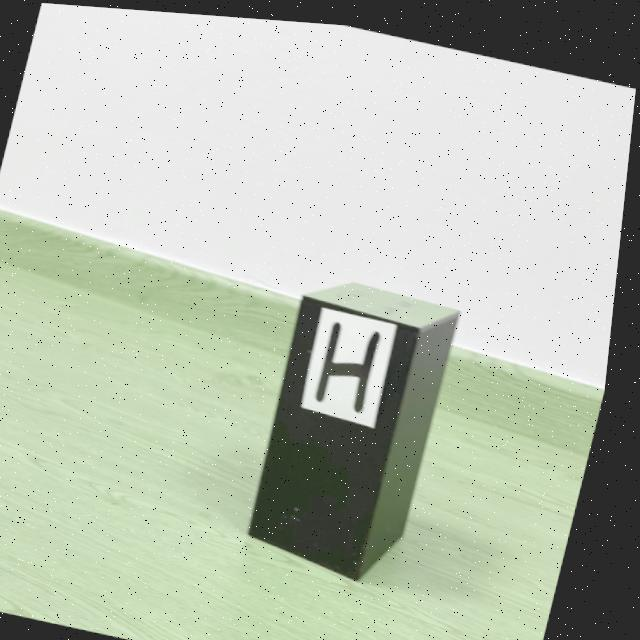H: (324, 316, 387, 406)
